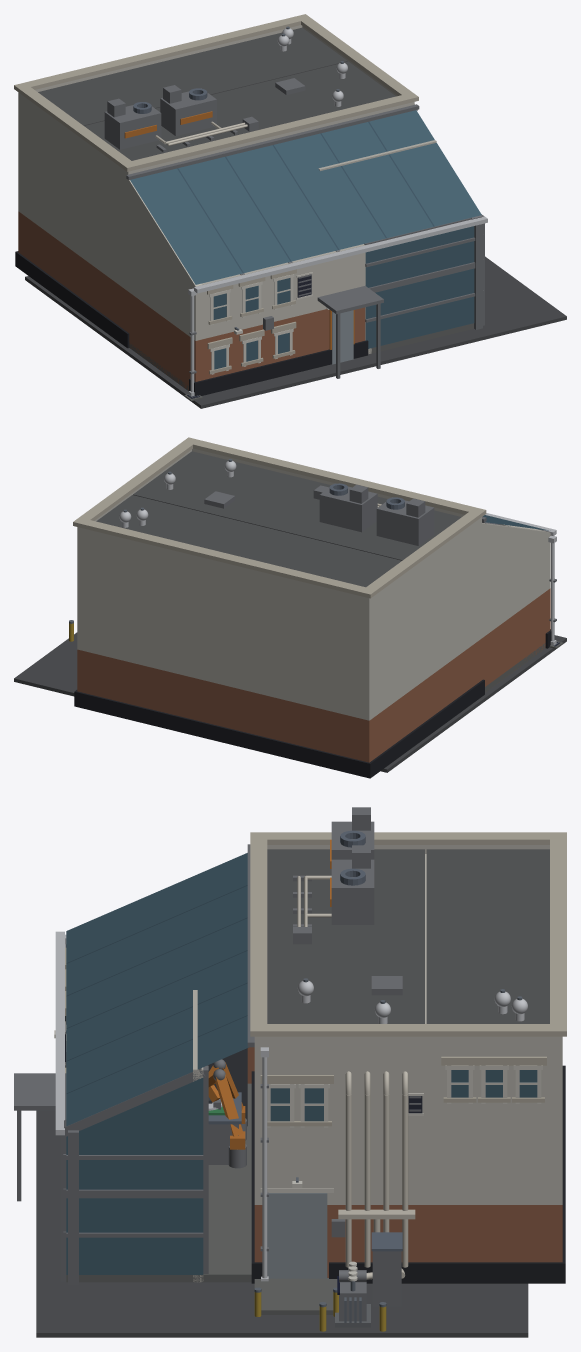
The model's file is high_tech_manufactory_lvl2.glb.
The picture shows the model from 3 angles, top to bottom: view 1: azimuth 30°, elevation 25°; view 2: azimuth 150°, elevation 25°; view 3: azimuth 270°, elevation 25°; orthographic projection. The views are drawn at different scales.
Parts seen in each view (by area): view 1: high_tech_manufactory, high_tech_manufactory_Glass; view 2: high_tech_manufactory; view 3: high_tech_manufactory, high_tech_manufactory_Glass.
Boxes of the visible parts, left/top/right/bottom form: high_tech_manufactory: left=14, top=14, right=566, bottom=408; high_tech_manufactory_Glass: left=130, top=110, right=481, bottom=369; high_tech_manufactory: left=14, top=437, right=566, bottom=778; high_tech_manufactory: left=14, top=807, right=566, bottom=1337; high_tech_manufactory_Glass: left=65, top=853, right=537, bottom=1274.
Bounding box in the file's own units: 0.9021 × 0.499 × 0.8373.
